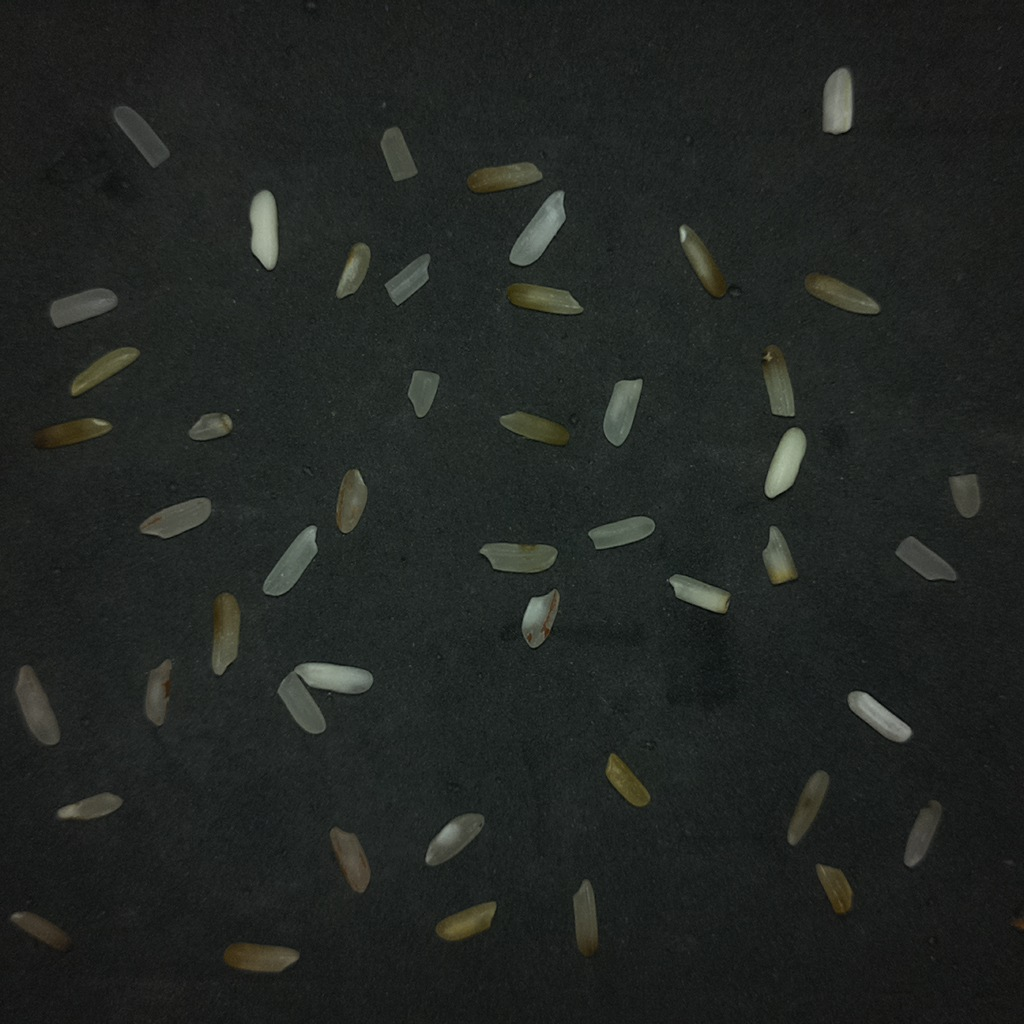broken: (14, 665, 59, 745), (277, 672, 325, 734), (895, 536, 956, 580), (603, 378, 642, 446), (49, 288, 117, 327), (479, 542, 556, 572), (588, 516, 655, 549), (385, 254, 429, 304), (380, 126, 417, 181), (822, 67, 852, 134), (336, 242, 370, 298), (408, 370, 439, 417), (948, 474, 981, 518)
chalky: (848, 690, 912, 742), (764, 427, 806, 498), (293, 662, 372, 694), (249, 190, 278, 270)
damaged: (679, 225, 727, 297), (667, 574, 730, 613), (904, 801, 941, 867), (33, 418, 111, 449), (762, 345, 794, 416), (762, 525, 797, 584), (56, 792, 122, 820), (188, 414, 232, 440)
discolored: (70, 347, 139, 396), (787, 770, 829, 845), (805, 273, 880, 314), (435, 901, 497, 942), (10, 911, 71, 952), (499, 411, 569, 445), (605, 753, 649, 807), (506, 283, 582, 314), (211, 592, 239, 675), (467, 162, 541, 193), (223, 943, 298, 972), (573, 879, 598, 957), (815, 863, 852, 914)
red: (140, 497, 211, 538), (329, 827, 370, 892), (521, 589, 559, 648), (336, 468, 368, 534), (144, 659, 172, 726)
whole: (510, 191, 563, 264), (263, 525, 315, 594), (425, 812, 485, 866), (116, 106, 167, 166)
